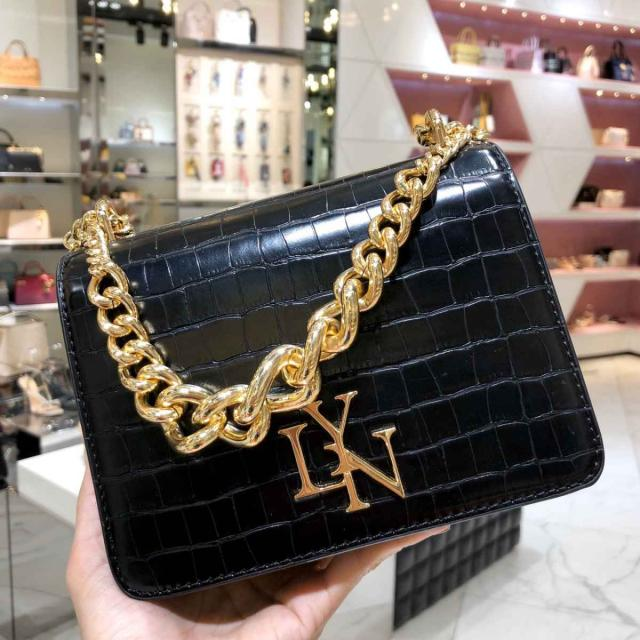handbag: (55, 109, 604, 600)
